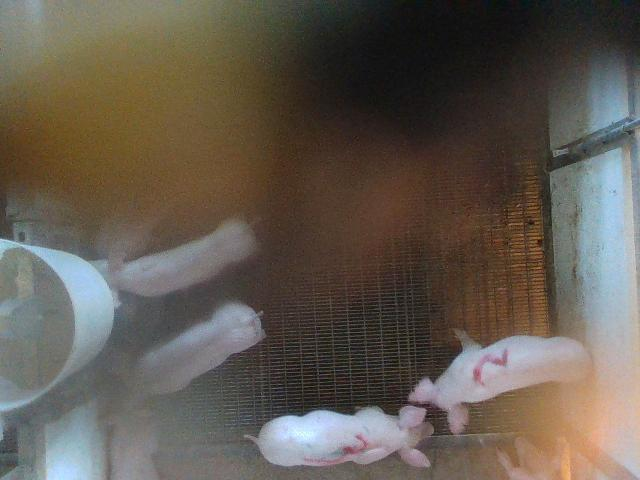pig-2: (409, 330, 592, 434)
pig-3: (245, 406, 434, 467)
